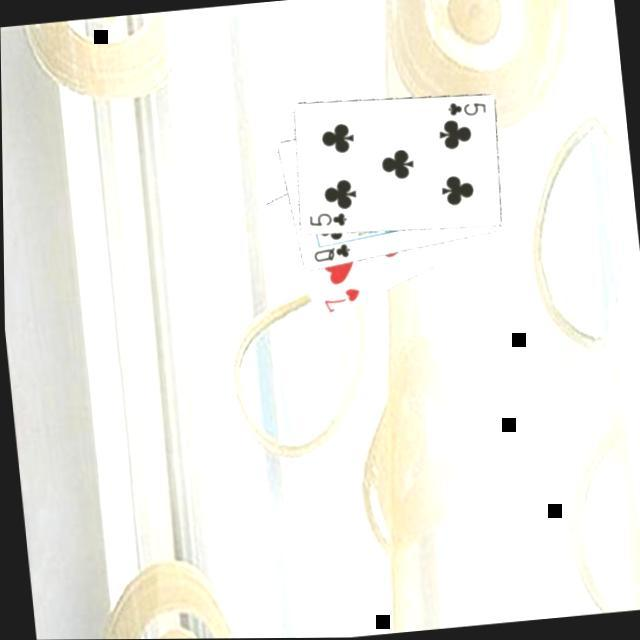5C: (302, 207, 348, 231), (441, 96, 487, 120)
7H: (318, 283, 362, 315)
QC: (308, 239, 352, 265)
